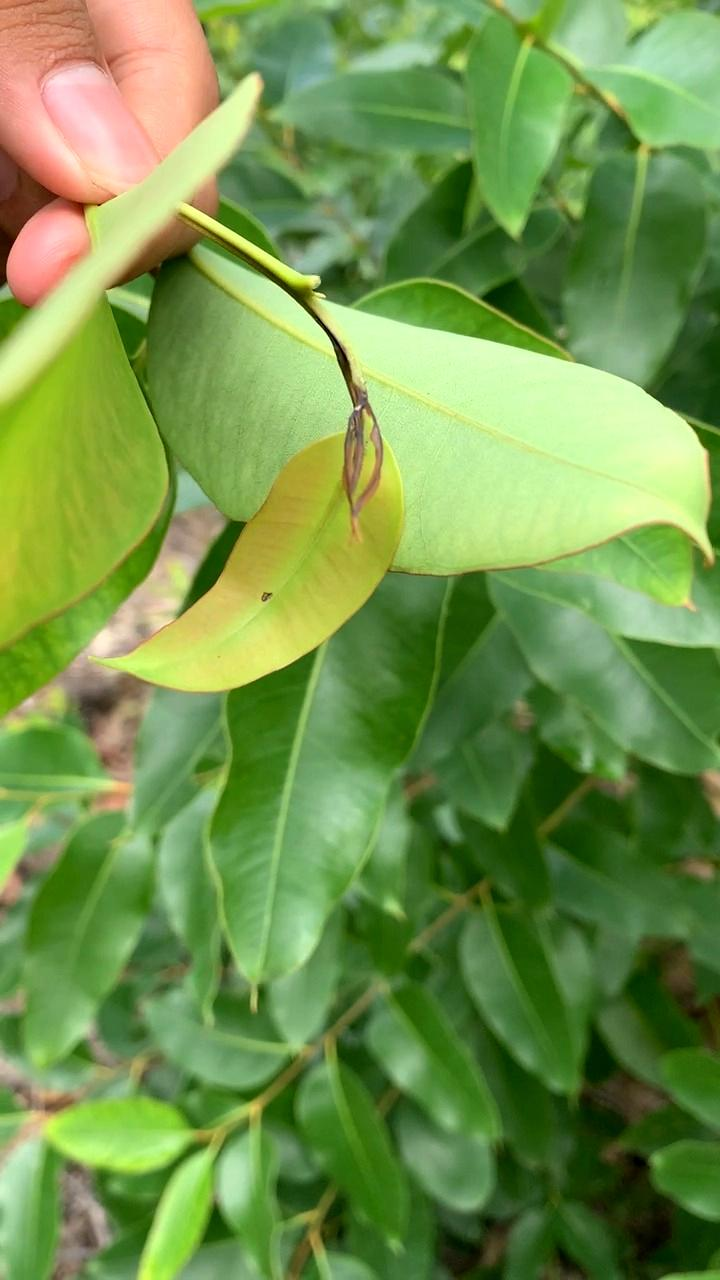Helopeltis-Withered Sprout: (336, 368, 401, 538)
